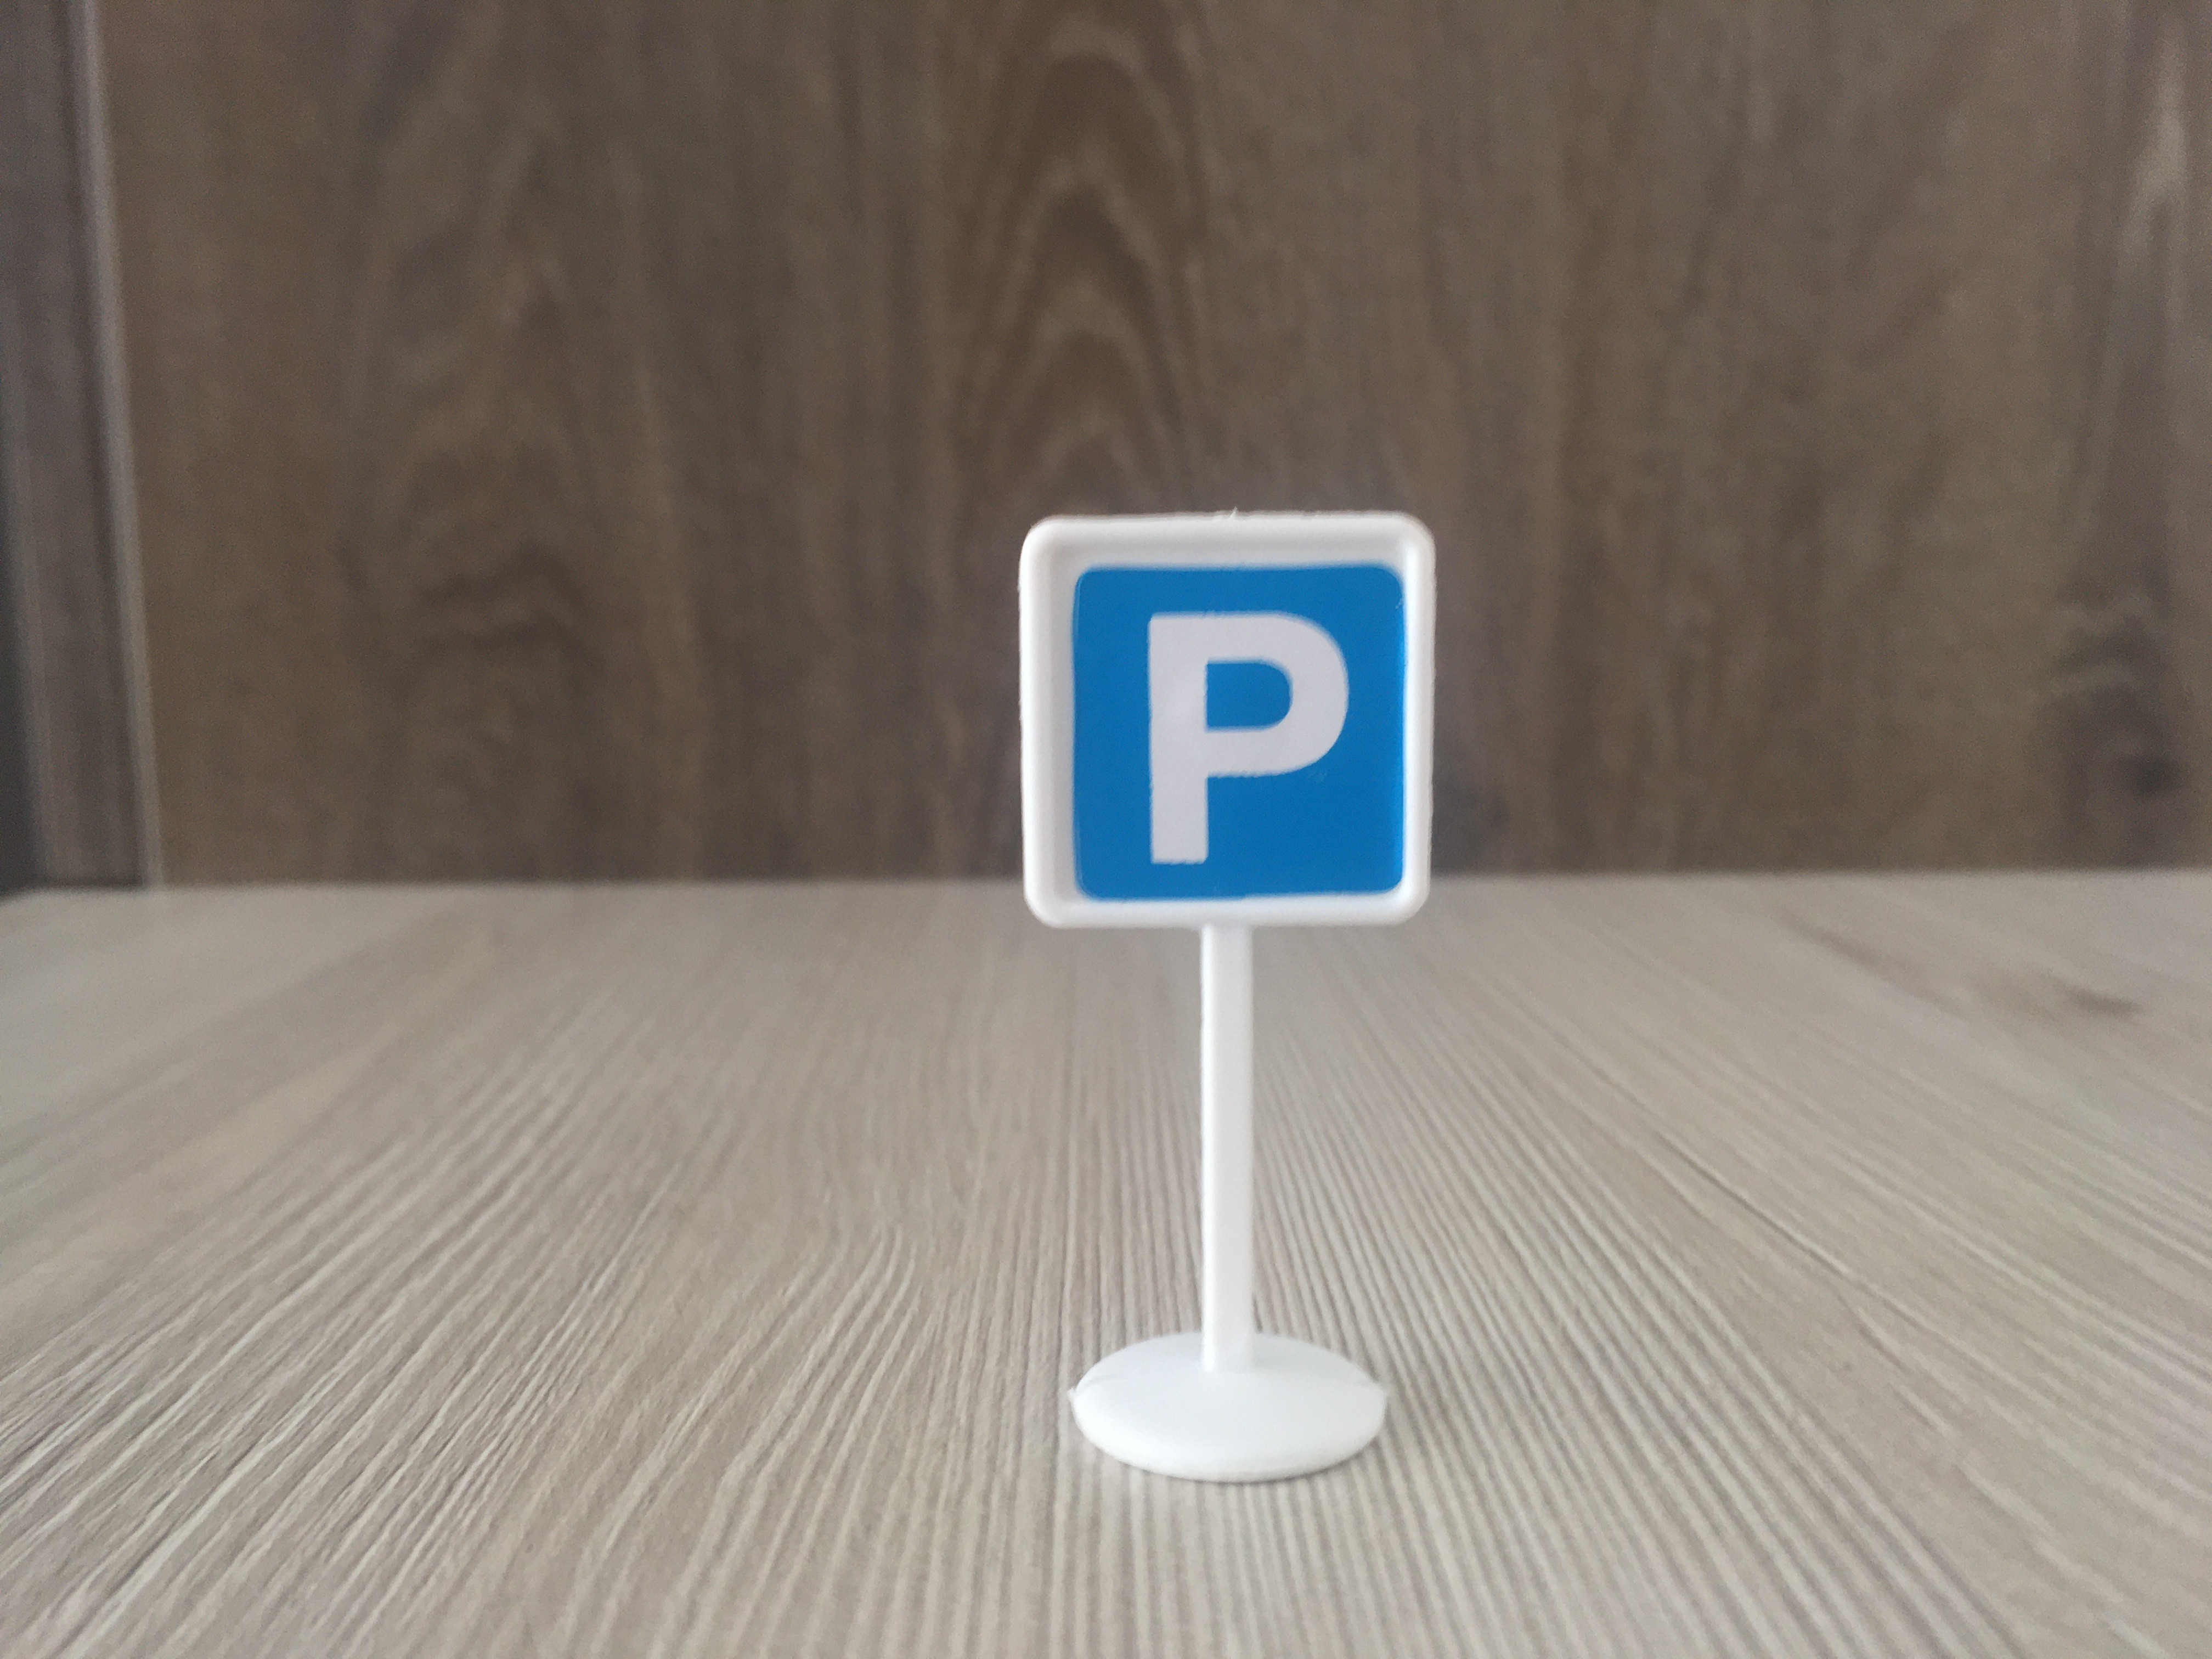parking: (1010, 505, 1446, 934)
